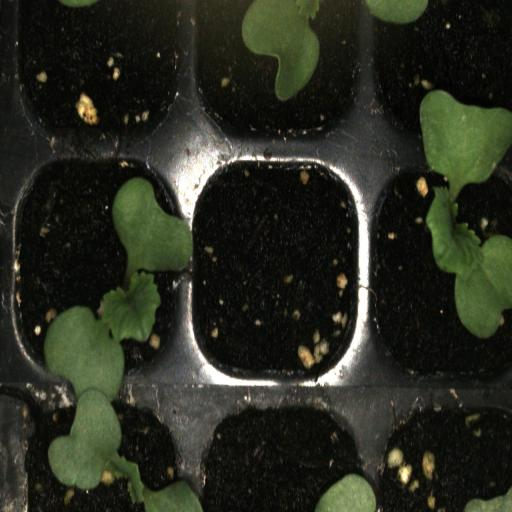Folha: (224, 0, 321, 101), (315, 473, 378, 512)
Germinacao: (11, 152, 187, 380), (371, 151, 512, 373), (11, 390, 186, 512)
